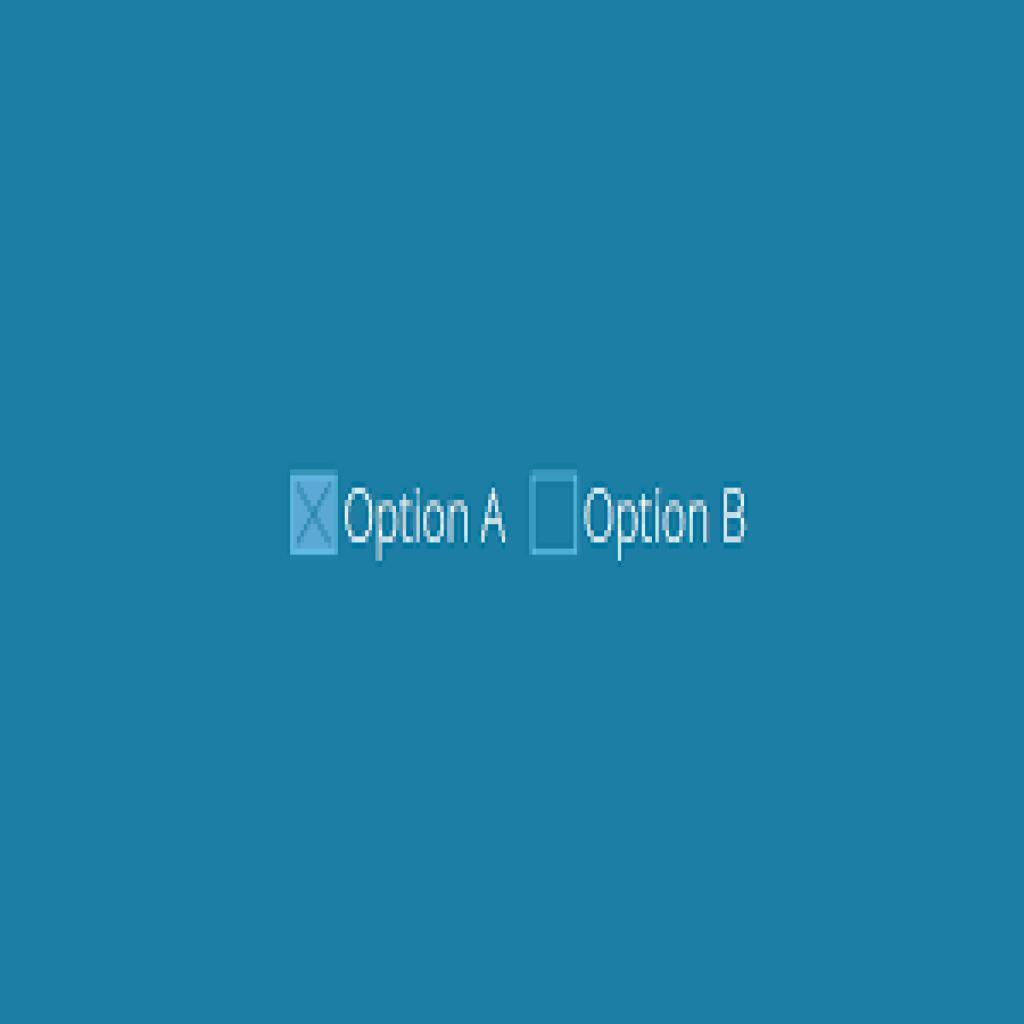checkbox: (531, 476, 583, 557), (291, 472, 339, 556)
label: (586, 480, 751, 556), (346, 483, 509, 554)
